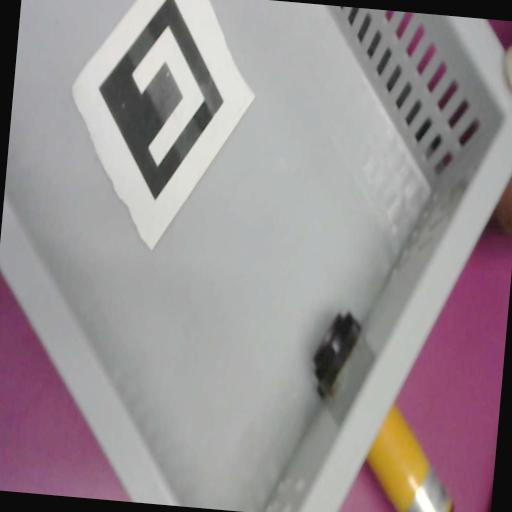QR: (57, 0, 264, 259)
